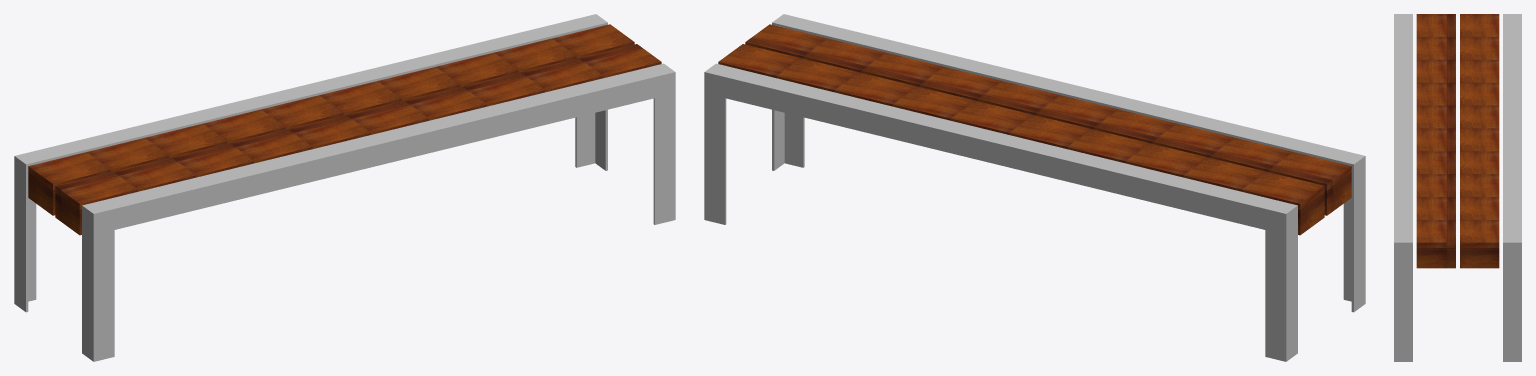
3 views of the same model, side by side, from view 1: azimuth 30°, elevation 25°; view 2: azimuth 150°, elevation 25°; view 3: azimuth 270°, elevation 25° (orthographic). The views are drawn at different scales.
Visible parts, largest first — view 1: mesh2_mesh2-geometry, mesh6_mesh6-geometry, mesh5_mesh5-geometry, mesh1_mesh1-geometry; view 2: mesh1_mesh1-geometry, mesh5_mesh5-geometry, mesh6_mesh6-geometry, mesh2_mesh2-geometry; view 3: mesh5_mesh5-geometry, mesh6_mesh6-geometry, mesh1_mesh1-geometry, mesh2_mesh2-geometry.
Part boxes in pixels (x1,y1,x2,y2): mesh2_mesh2-geometry: [82, 63, 675, 361]; mesh6_mesh6-geometry: [28, 24, 634, 215]; mesh5_mesh5-geometry: [55, 44, 661, 235]; mesh1_mesh1-geometry: [14, 14, 607, 312]; mesh1_mesh1-geometry: [704, 63, 1297, 361]; mesh5_mesh5-geometry: [745, 24, 1351, 215]; mesh6_mesh6-geometry: [718, 44, 1324, 235]; mesh2_mesh2-geometry: [772, 14, 1365, 312]; mesh5_mesh5-geometry: [1416, 14, 1455, 268]; mesh6_mesh6-geometry: [1460, 14, 1499, 268]; mesh1_mesh1-geometry: [1503, 14, 1521, 361]; mesh2_mesh2-geometry: [1394, 14, 1412, 361].
Size of the model in its own units: 0.9471 by 0.2302 by 0.2236.
